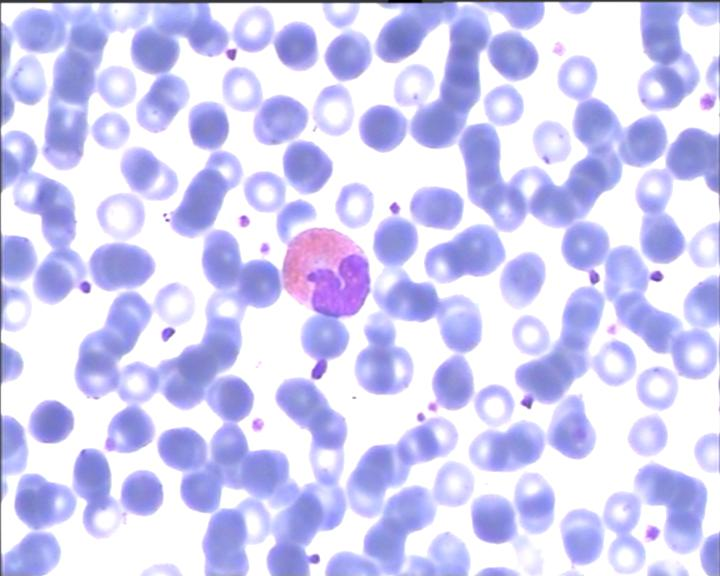eosi: (273, 226, 370, 319)
